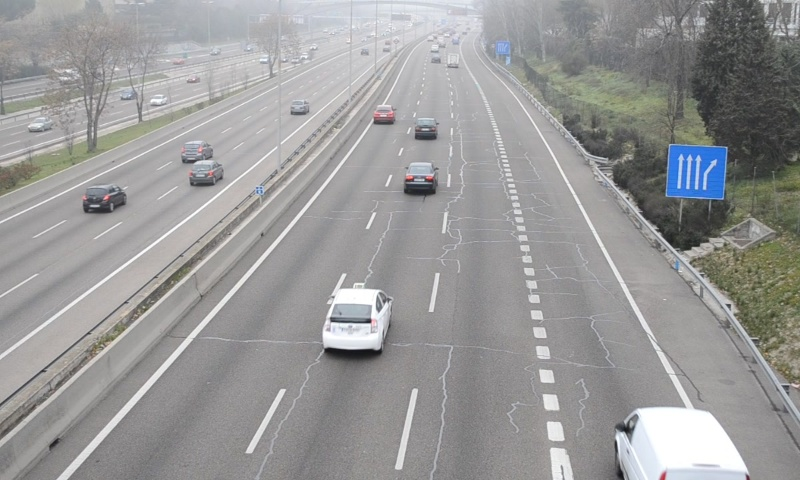car: (322, 289, 391, 351), (404, 162, 436, 190), (414, 117, 438, 140), (372, 104, 396, 124)
van: (615, 406, 750, 479)
